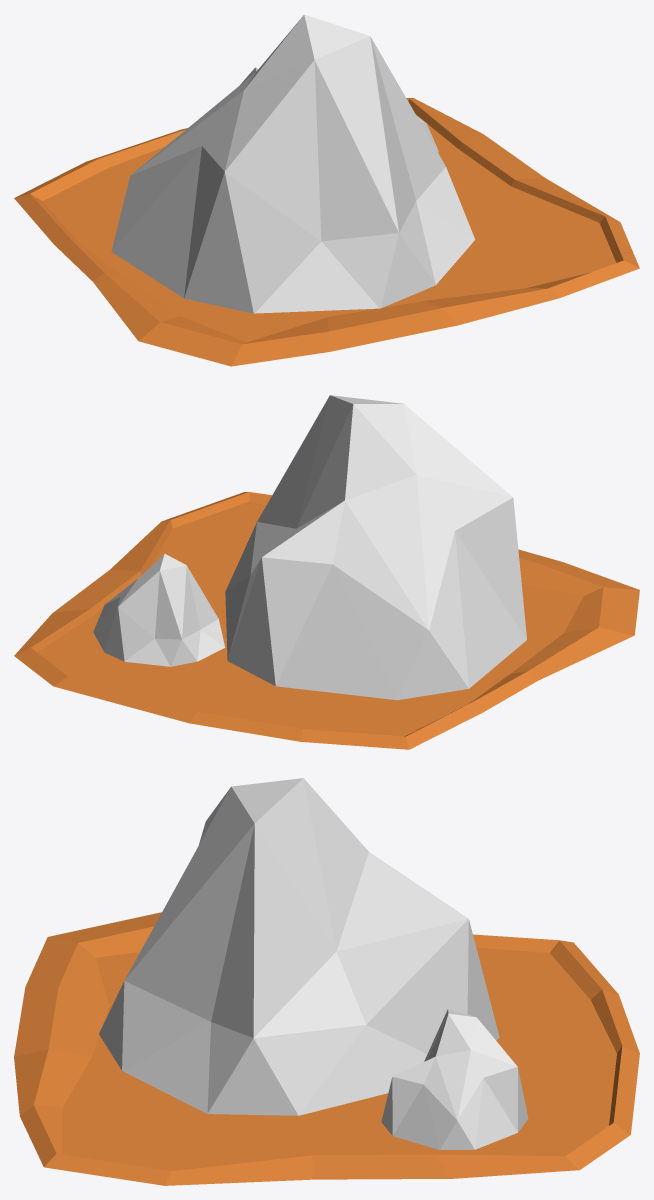
The model's file is Stone Mine.fbx.
The picture shows the model from 3 angles, top to bottom: view 1: azimuth 30°, elevation 25°; view 2: azimuth 150°, elevation 25°; view 3: azimuth 270°, elevation 25°; orthographic projection. The views are drawn at different scales.
Visible parts, largest first — view 1: Stone Spawner; view 2: Stone Spawner; view 3: Stone Spawner.
Boxes of the visible parts, x1,y1,x2,y2 form: Stone Spawner: [14, 14, 639, 366]; Stone Spawner: [14, 395, 639, 749]; Stone Spawner: [14, 778, 639, 1185].
Bounding box in the file's own units: 438 × 197 × 424.
